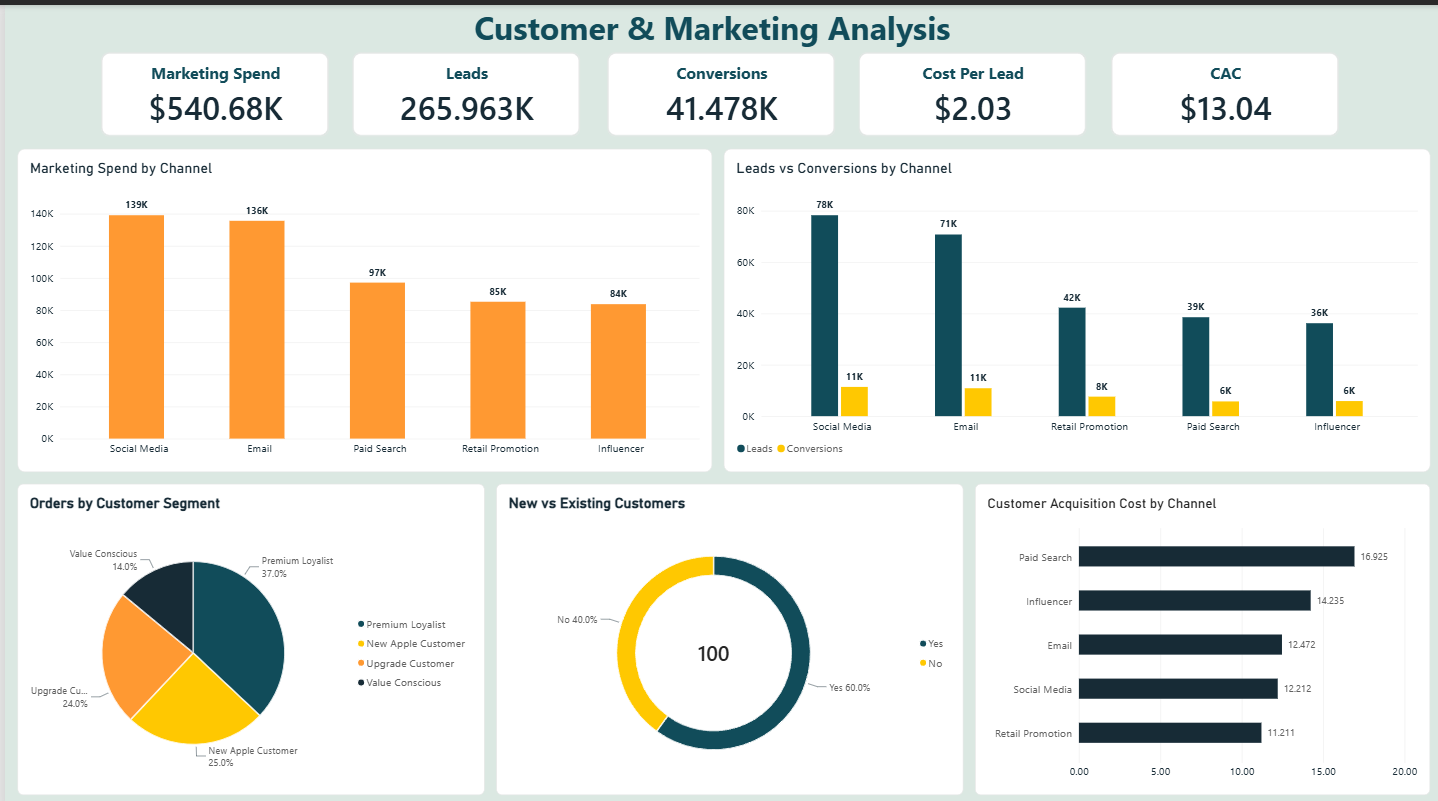

What the dashboard file says about the page in this screenshot:
{"tool":"powerbi","page":{"name":"Customer & Marketing Analysis","canvas":[1920,1080],"ordinal":2},"visuals":[{"type":"cardVisual","fields":{"Data":["Measures (2).Marketing Spend"]},"box":[128.4,63.6,304,112],"z":0},{"type":"textbox","box":[208,0,1472,64],"z":1000},{"type":"cardVisual","fields":{"Data":["Measures (2).Leads"]},"box":[464.4,63.6,304,112],"z":2000},{"type":"cardVisual","fields":{"Data":["Measures (2).Conversions"]},"box":[805.2,63.6,304,112],"z":3000},{"type":"cardVisual","fields":{"Data":["Measures (2).Cost Per Lead"]},"box":[1141.2,63.6,304,112],"z":4000},{"type":"cardVisual","fields":{"Data":["Measures (2).CAC"]},"box":[1477.2,63.6,304,112],"z":5000},{"type":"clusteredColumnChart","title":"Marketing Spend by Channel","fields":{"Category":["public fact_marketing.campaign_channel"],"Y":["Measures (2).Marketing Spend"]},"box":[16,192,928,432],"z":6000},{"type":"clusteredColumnChart","title":"Leads vs Conversions by Channel","fields":{"Category":["public fact_marketing.campaign_channel"],"Y":["Measures (2).Leads","Measures (2).Conversions"]},"box":[960,192,944,432],"z":7000},{"type":"pieChart","title":"Orders by Customer Segment","fields":{"Category":["public dim_customer.customer_segment"],"Y":["Measures (2).Total Orders"]},"box":[16,640,624,416],"z":8000},{"type":"donutChart","title":"New vs Existing Customers","fields":{"Category":["public dim_customer.existing_apple_customer"],"Y":["Measures (2).Total Orders"]},"box":[656,640,624,416],"z":9000},{"type":"clusteredBarChart","title":"Customer Acquisition Cost by Channel","fields":{"Category":["public fact_marketing.campaign_channel"],"Y":["Measures (2).CAC"]},"box":[1296,640,608,416],"z":10000}]}

Visuals, with their boxes in screenshot pixels (x1, y1, x2, y2), scaled from the page's 1920x1080 canvas onto the 1438x801 screenshot:
cardVisual - Measures (2).Marketing Spend: <box>96,47,324,130</box>
textbox: <box>156,0,1258,47</box>
cardVisual - Measures (2).Leads: <box>348,47,575,130</box>
cardVisual - Measures (2).Conversions: <box>603,47,831,130</box>
cardVisual - Measures (2).Cost Per Lead: <box>855,47,1082,130</box>
cardVisual - Measures (2).CAC: <box>1106,47,1334,130</box>
"Marketing Spend by Channel" clusteredColumnChart: <box>12,142,707,463</box>
"Leads vs Conversions by Channel" clusteredColumnChart: <box>719,142,1426,463</box>
"Orders by Customer Segment" pieChart: <box>12,475,479,783</box>
"New vs Existing Customers" donutChart: <box>491,475,959,783</box>
"Customer Acquisition Cost by Channel" clusteredBarChart: <box>971,475,1426,783</box>
